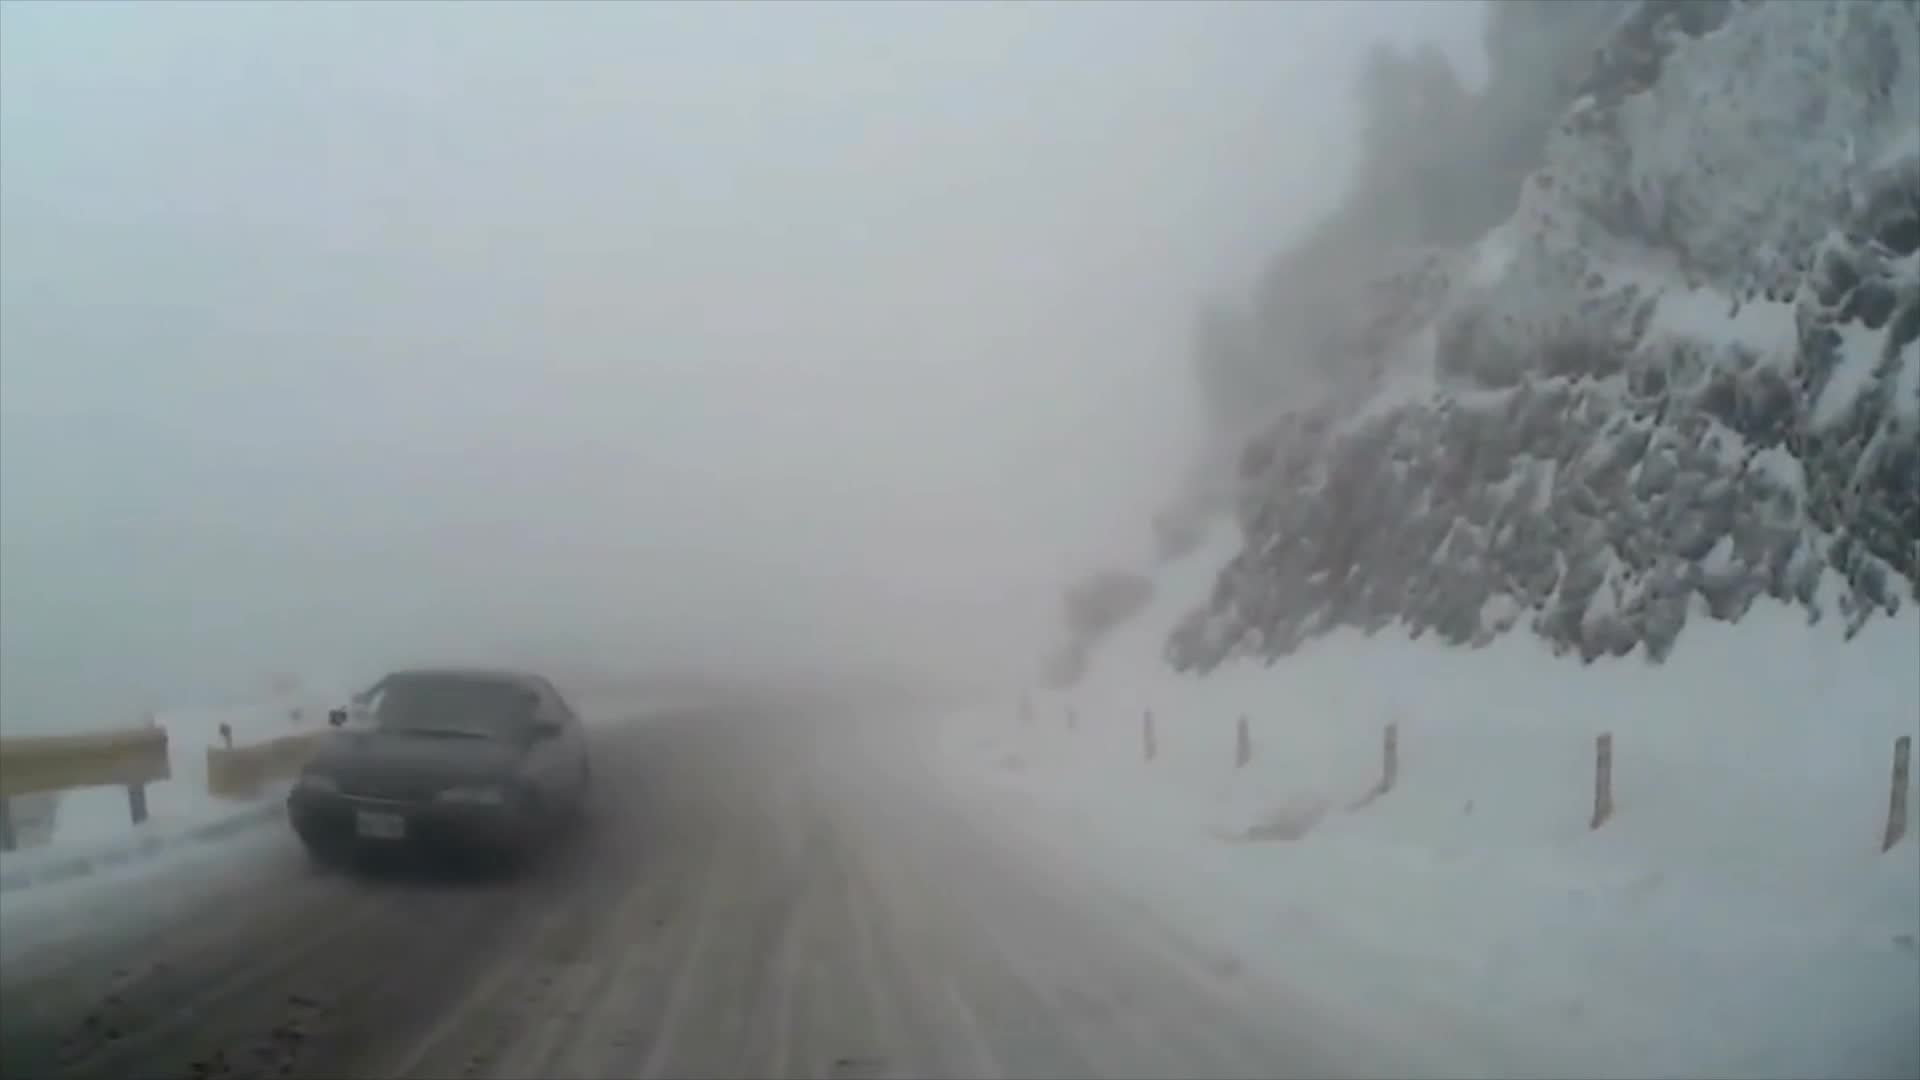vehicle: (287, 665, 595, 880)
